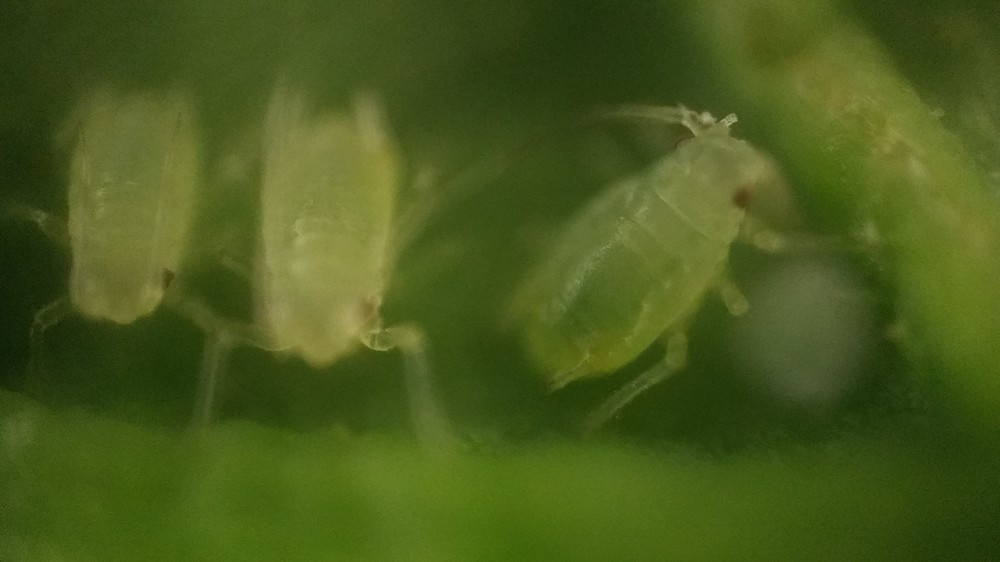Pulgon: (484, 93, 886, 439), (199, 79, 495, 441), (19, 73, 230, 374)
